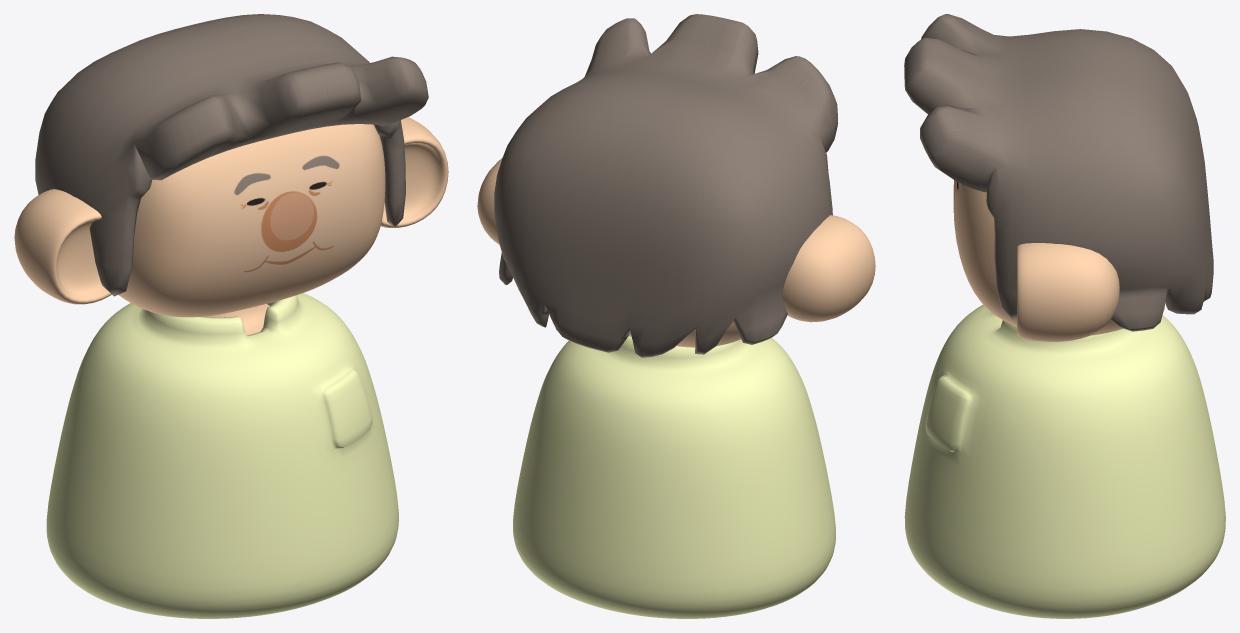
Rendered from uncle.fbx.
The picture shows the model from 3 angles, left to right: view 1: azimuth 30°, elevation 25°; view 2: azimuth 150°, elevation 25°; view 3: azimuth 270°, elevation 25°; orthographic projection. The views are drawn at different scales.
Parts seen in each view (by area): view 1: uncle; view 2: uncle; view 3: uncle.
Part boxes in pixels (x1,y1,x2,y2): uncle: [14, 14, 448, 618]; uncle: [477, 14, 875, 618]; uncle: [904, 14, 1225, 618].
Size of the model in its own units: 87.04 by 111 by 61.8.
Materials: 4 (4 with a texture image).
